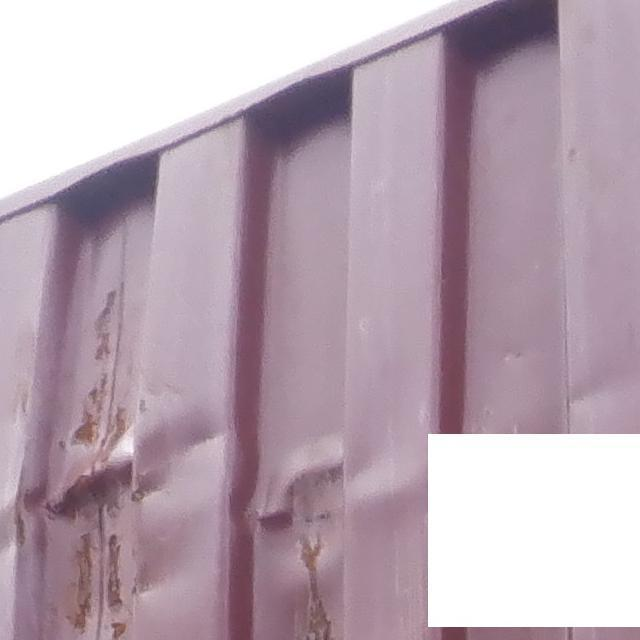dent: (1, 402, 351, 603)
